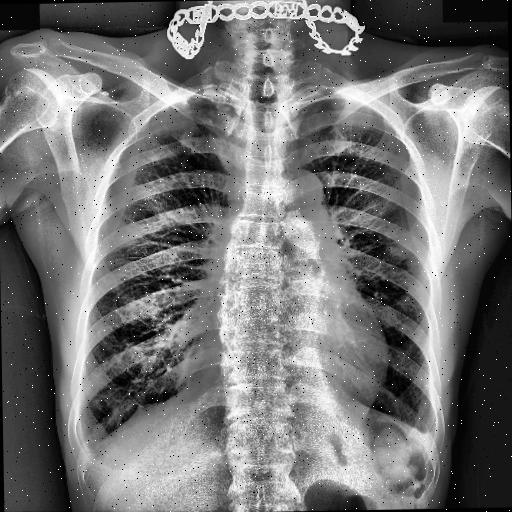0- Aortic enlargement: (284, 170, 322, 207)
10- Pleural effusion: (412, 414, 444, 456), (76, 434, 108, 472), (80, 443, 97, 459), (422, 432, 434, 444)
11- Pleural thickening: (74, 428, 111, 474), (412, 414, 444, 456), (76, 434, 108, 472), (411, 424, 438, 453), (80, 443, 97, 459), (422, 432, 434, 444)
